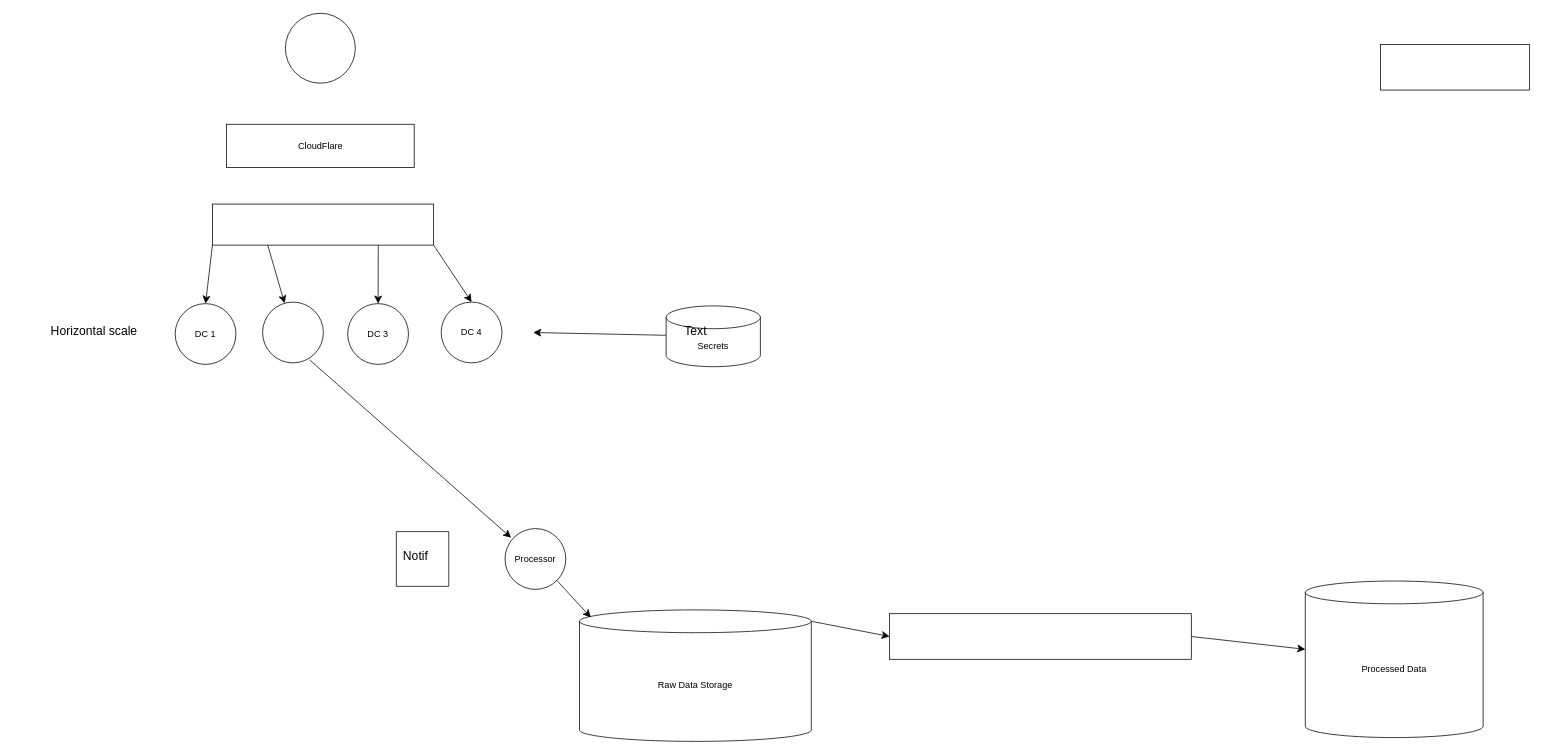
The diagram is 1543 pixels wide and 755 high, and some of its shapes have lost their labels. Here are the shapes that lost their labels. From the top down, the centre of each, then its label:
At point 320,48: "P ublic API".
At point 1455,67: "Admin Access (Front-end)".
At point 323,224: "Data Collection (Back-end, Load Balancer)".
At point 292,332: "DC 2".
At point 1040,636: "Credit Score Calculation".
